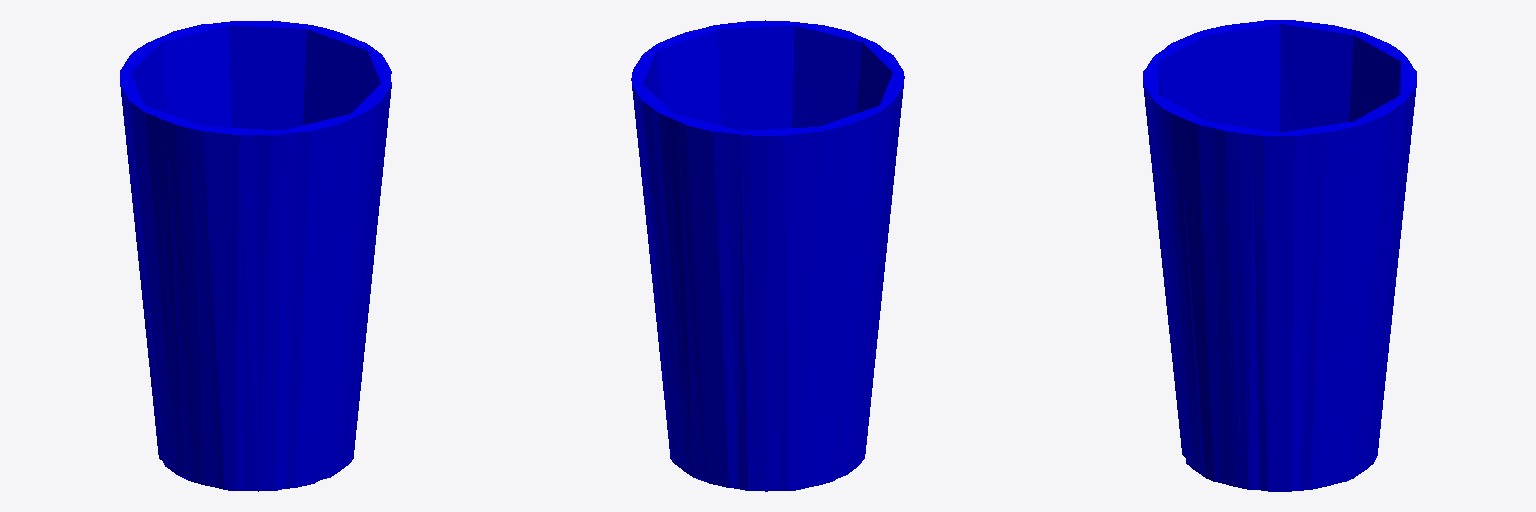
URDF robot description (bluecup.urdf):
<?xml version="0.0" ?>
<robot name="bluecup.urdf">
  <link name="baseLink">
    <contact>
      <friction_anchor/>
      <lateral_friction value="1.0"/>
    </contact>
    <inertial>
      <origin rpy="0 0 0" xyz="0 0 0"/>
       <mass value="0.035436875"/>
       <inertia ixx="1" ixy="0" ixz="0" iyy="1" iyz="0" izz="1"/>
    </inertial>
    <visual>
      <origin rpy="0 0 0" xyz="0 0 0"/>
      <geometry>
        <mesh filename="bluecup_new.obj" scale="1 1 1"/>
      </geometry>
       <material name="blue">
        <color rgba="0 0 1 1"/>
      </material>
    </visual>
    <collision>
      <origin rpy="0 0 0" xyz="0 0 0"/>
      <geometry>
        <mesh filename="bluecup_new.obj" scale="1 1 1"/>
      </geometry>
    </collision>
  </link>
</robot>

--- Facts derived from the render (not from the file) ---
3 views of the same robot in one strip: view 1: azimuth 30°, elevation 25°; view 2: azimuth 150°, elevation 25°; view 3: azimuth 270°, elevation 25° (orthographic).
Robot: bluecup.urdf — 1 links, 0 joints (none); root link baseLink; default pose: all joints at 0.
Visible links, largest first — view 1: baseLink; view 2: baseLink; view 3: baseLink.
Link boxes in pixels (x1=…): baseLink: x1=120, y1=20, x2=391, y2=491; baseLink: x1=631, y1=20, x2=904, y2=491; baseLink: x1=1143, y1=20, x2=1416, y2=491.
Size in the robot's own frame: 0.07 by 0.07 by 0.105 metres.
Meshes: 1 distinct files referenced, 1 mesh visuals loaded (1 OBJ).